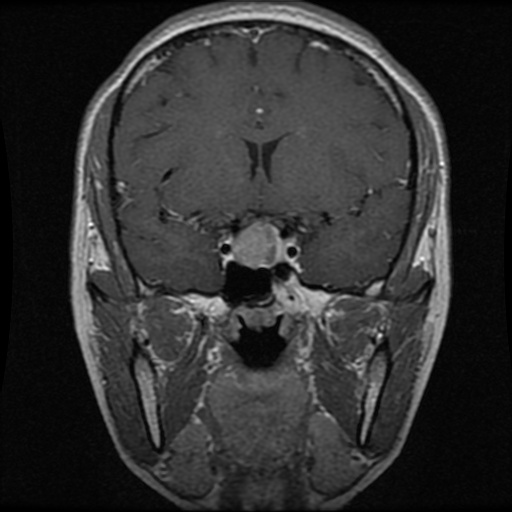pituitary: (232, 220, 281, 267)
